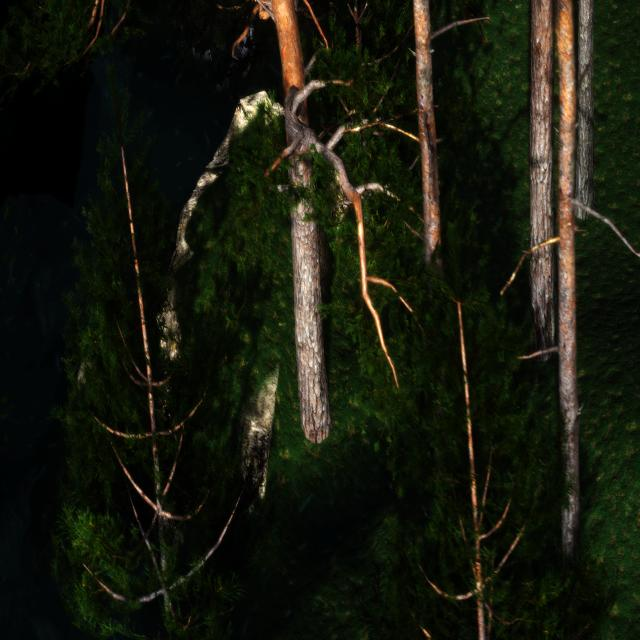Human: (188, 15, 258, 90)
